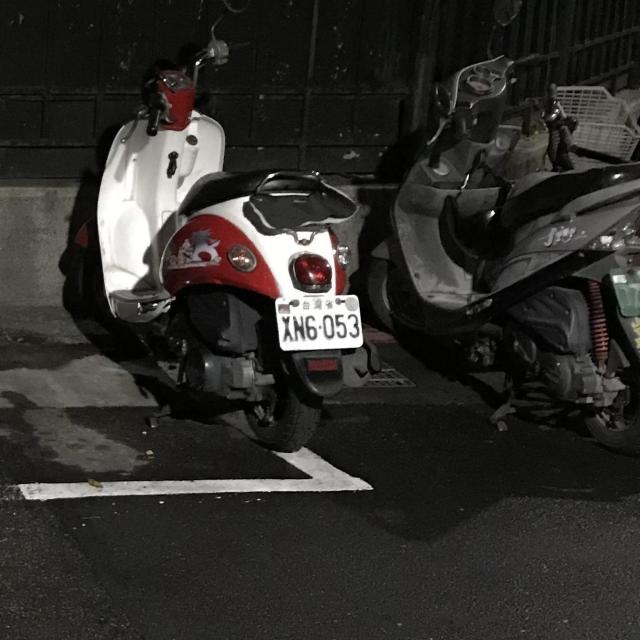W: (265, 285, 371, 358)
